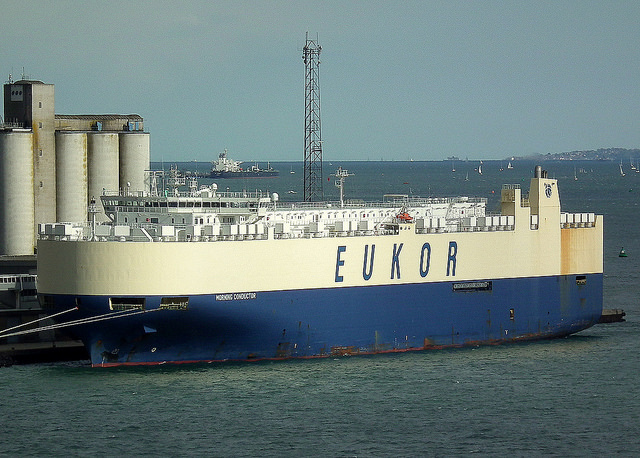PCC: (32, 165, 612, 372)
tanker: (206, 150, 279, 180)
